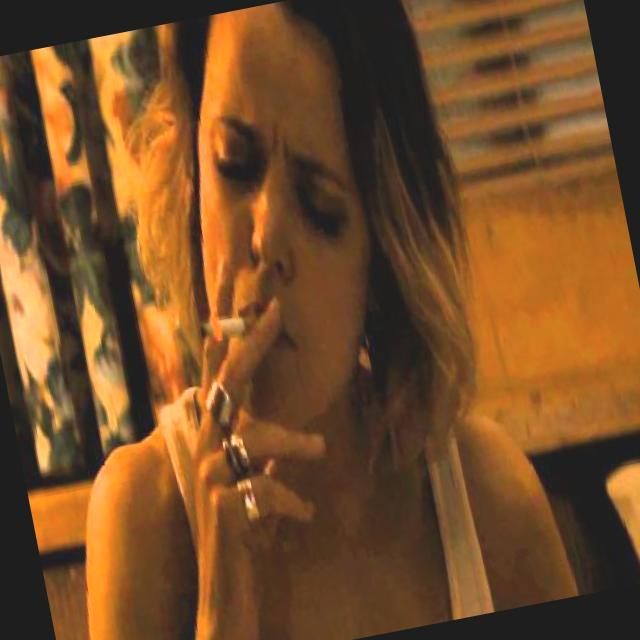cigarette: (186, 286, 279, 368)
